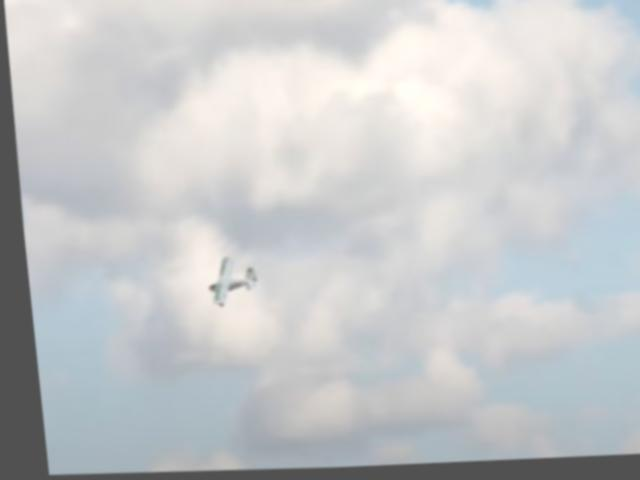uav: (199, 254, 255, 304)
